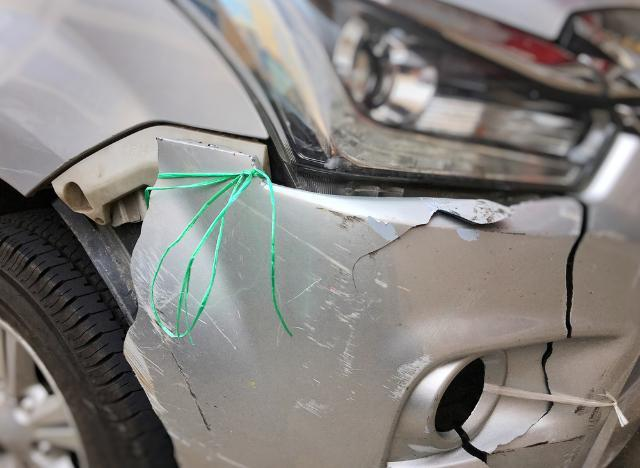crack: (452, 196, 590, 465), (351, 209, 513, 299)
dislocated part: (21, 117, 591, 468)
scratch: (125, 236, 251, 468), (293, 235, 437, 418), (505, 389, 609, 468)
